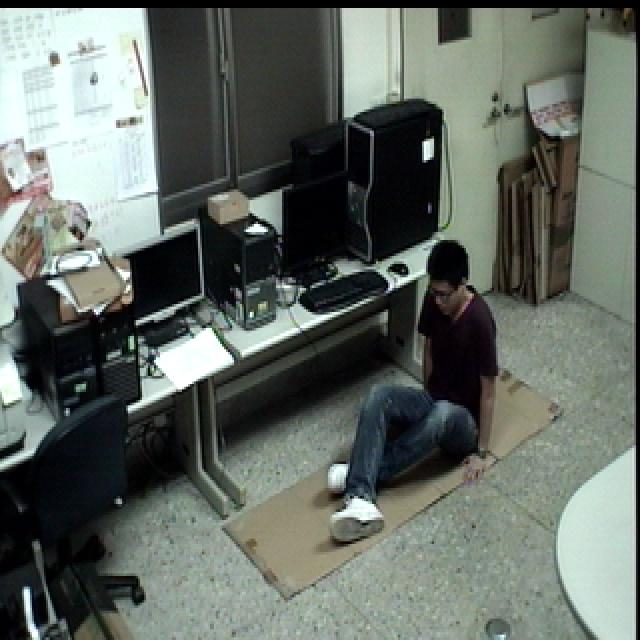sit: (317, 232, 501, 550)
